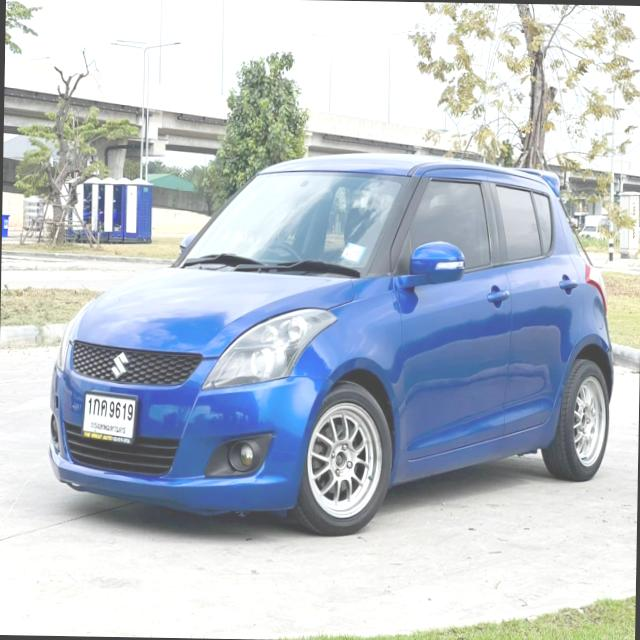license_plate: (82, 389, 139, 444)
